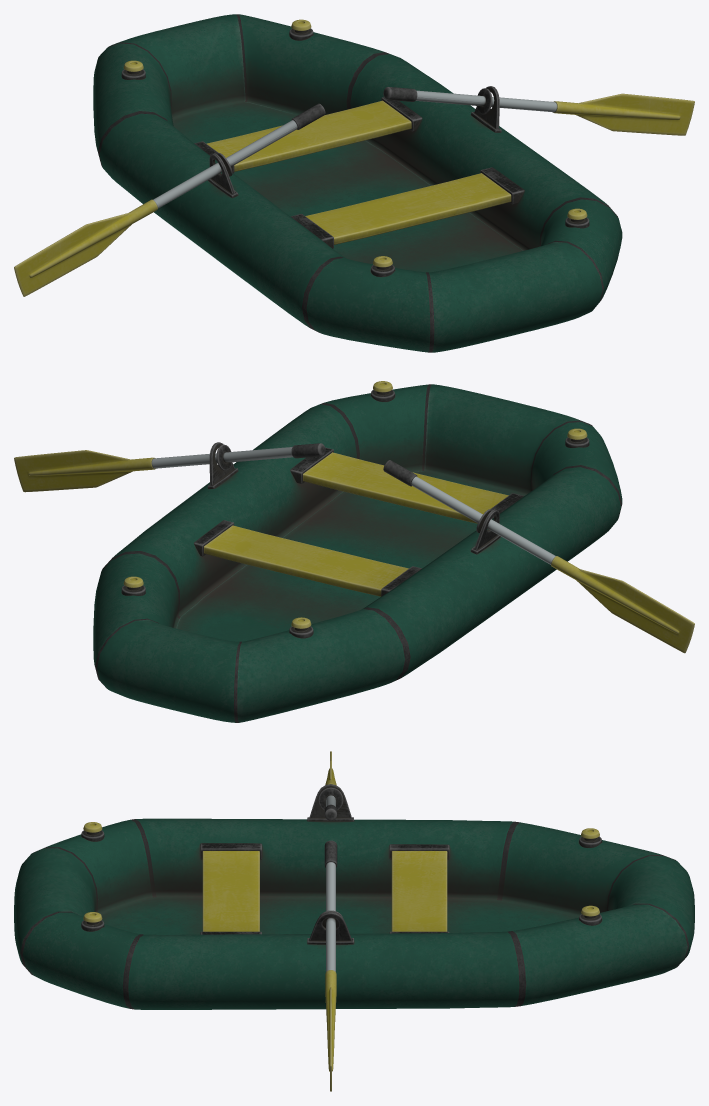
The model's file is inflatable_boat.glb.
3 views of the same model, one above another, from view 1: azimuth 30°, elevation 25°; view 2: azimuth 150°, elevation 25°; view 3: azimuth 270°, elevation 25° (orthographic). The views are drawn at different scales.
Parts seen in each view (by area): view 1: Object_2, Object_3; view 2: Object_2, Object_3; view 3: Object_2.
Boxes of the visible parts, x1,y1,x2,y2 form: Object_2: (93, 14, 694, 352); Object_3: (14, 153, 232, 296); Object_2: (14, 381, 622, 722); Object_3: (476, 509, 694, 653); Object_2: (14, 784, 694, 1091).
Bounding box in the file's own units: 5.04 × 0.9535 × 4.61.
1 material, 1 textured.
